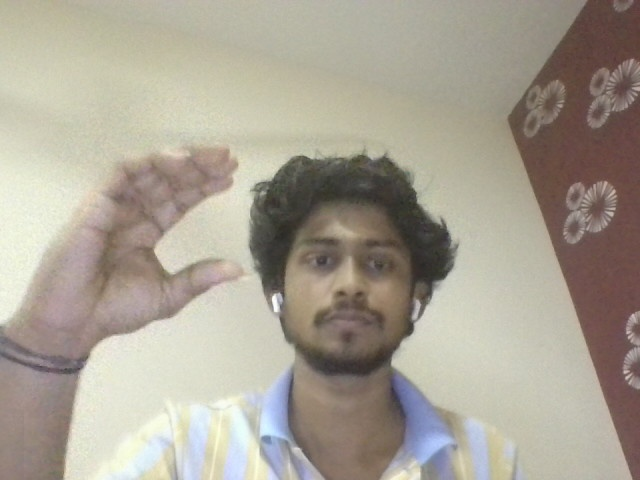No: (21, 137, 259, 333)
